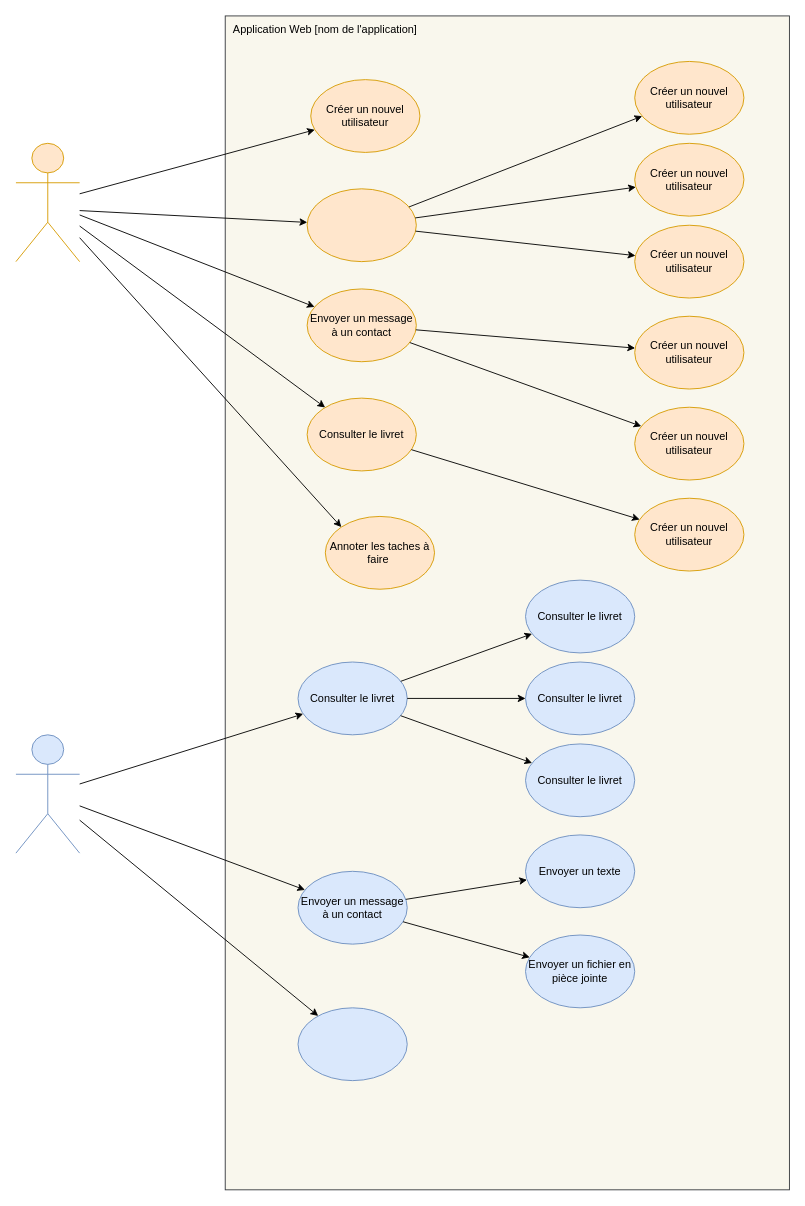
The diagram is 805 pixels wide and 1206 high, and some of its shapes have lost their labels. Each missing label, with the centre of its shape:
"Admin" belongs at [47,202].
"Manager les comptes utilisateurs" belongs at [361,225].
"User" belongs at [47,793].
